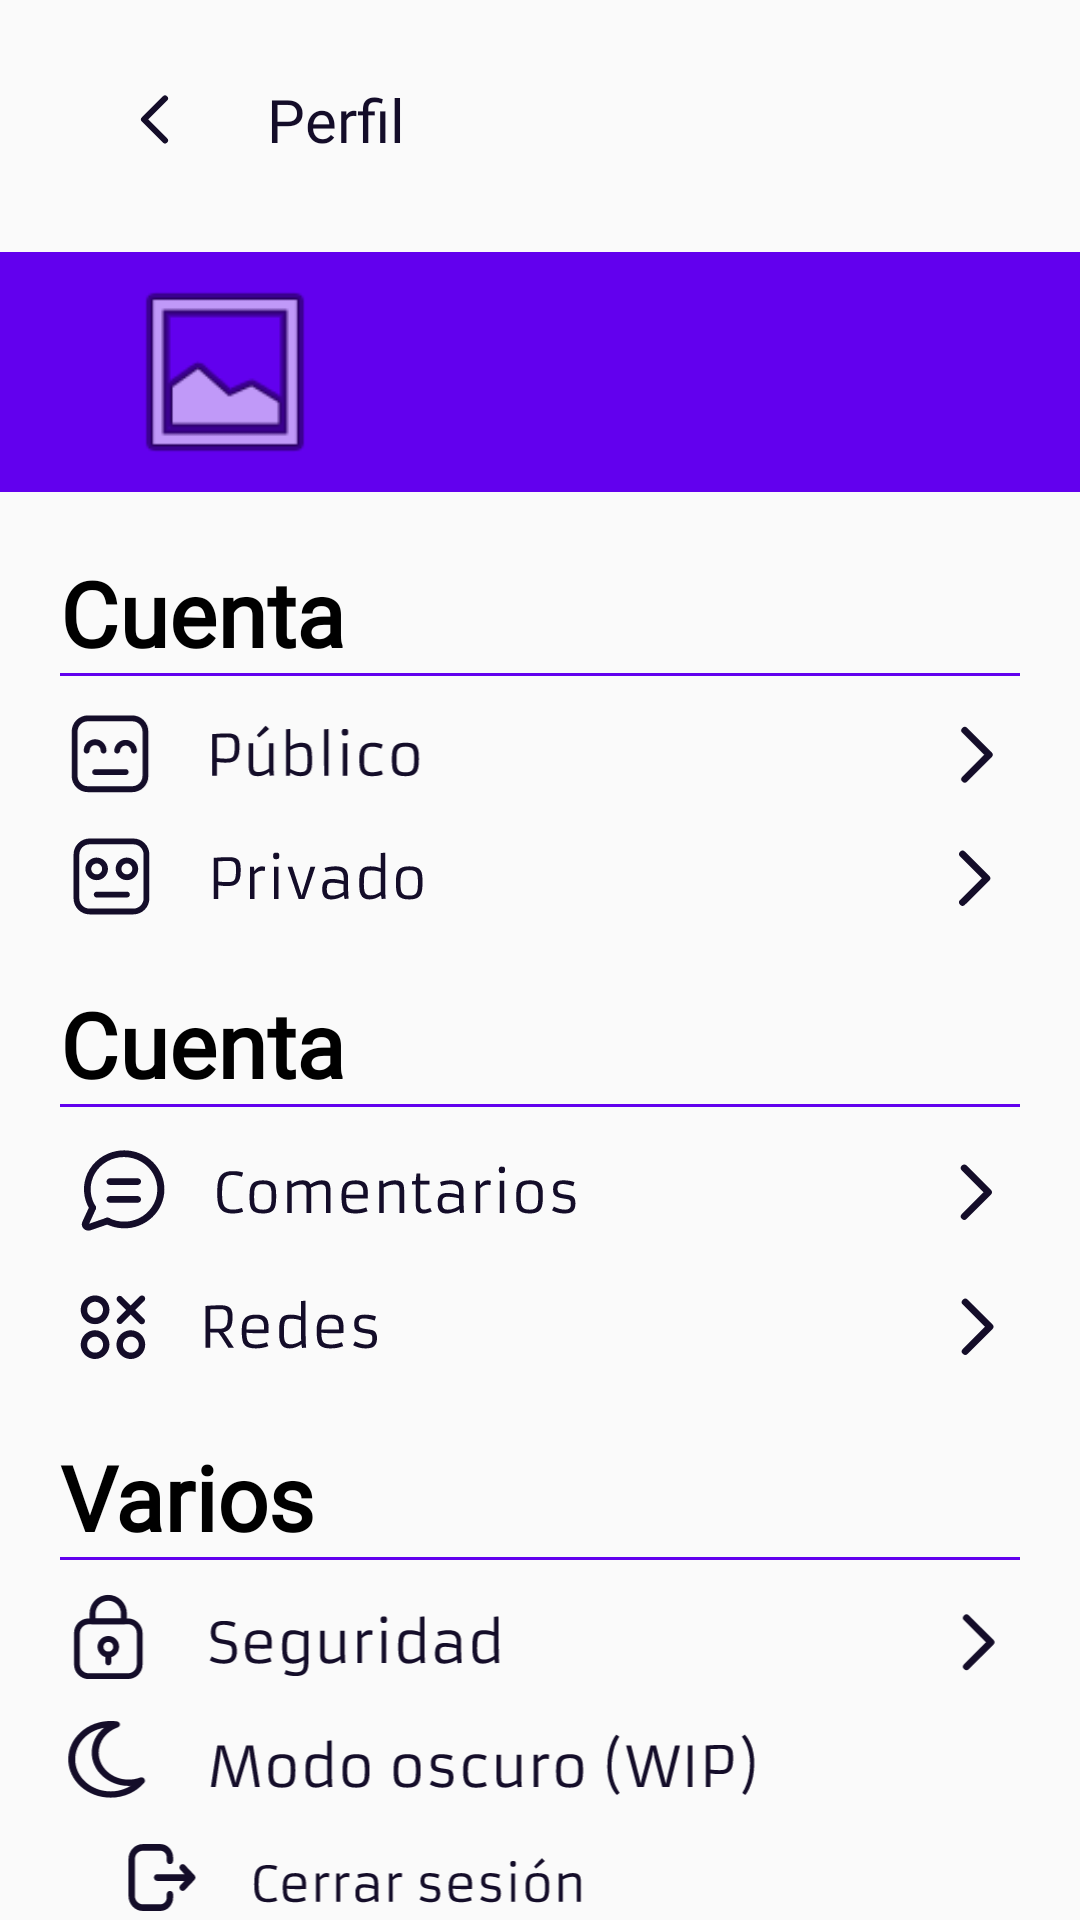

Named icons in this screenshot (1080*1920) and their bounding boxes, (x1, y1, x2, y2):
flecha atras: (140, 95, 169, 144)
gallery: (146, 293, 304, 451)
